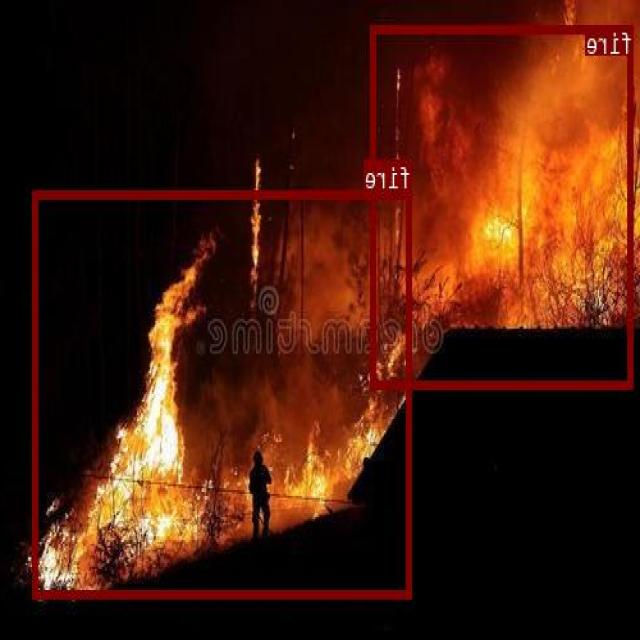fire: (34, 189, 412, 597), (372, 25, 635, 387)
